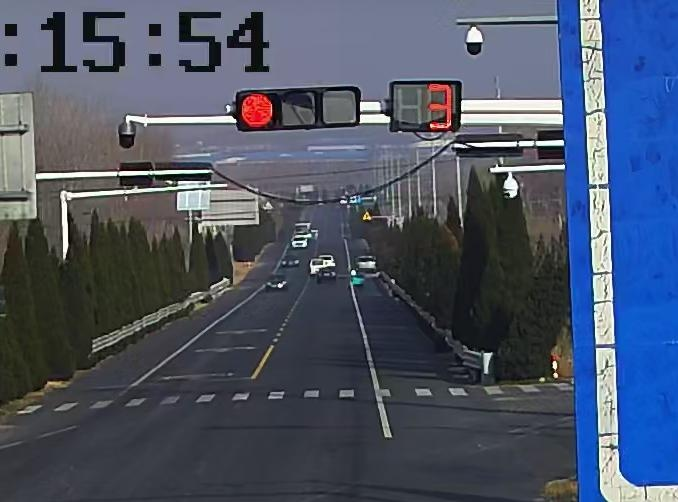red: (239, 93, 275, 128)
redtime: (422, 80, 455, 133)
